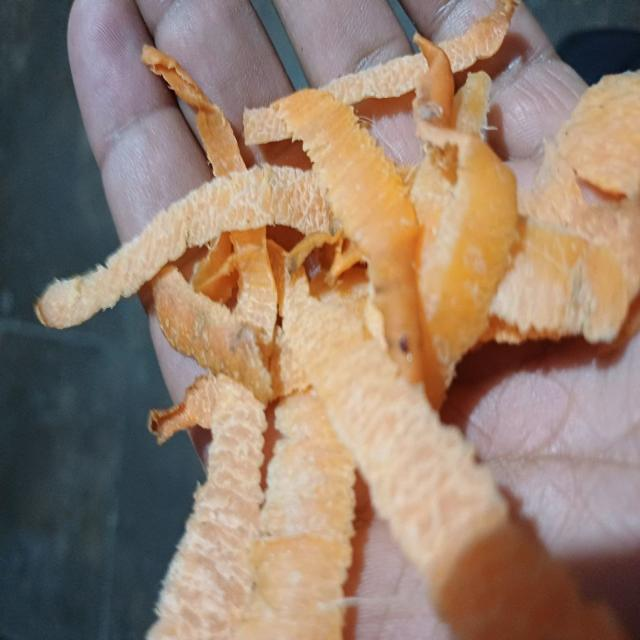organic: (36, 175, 488, 640)
